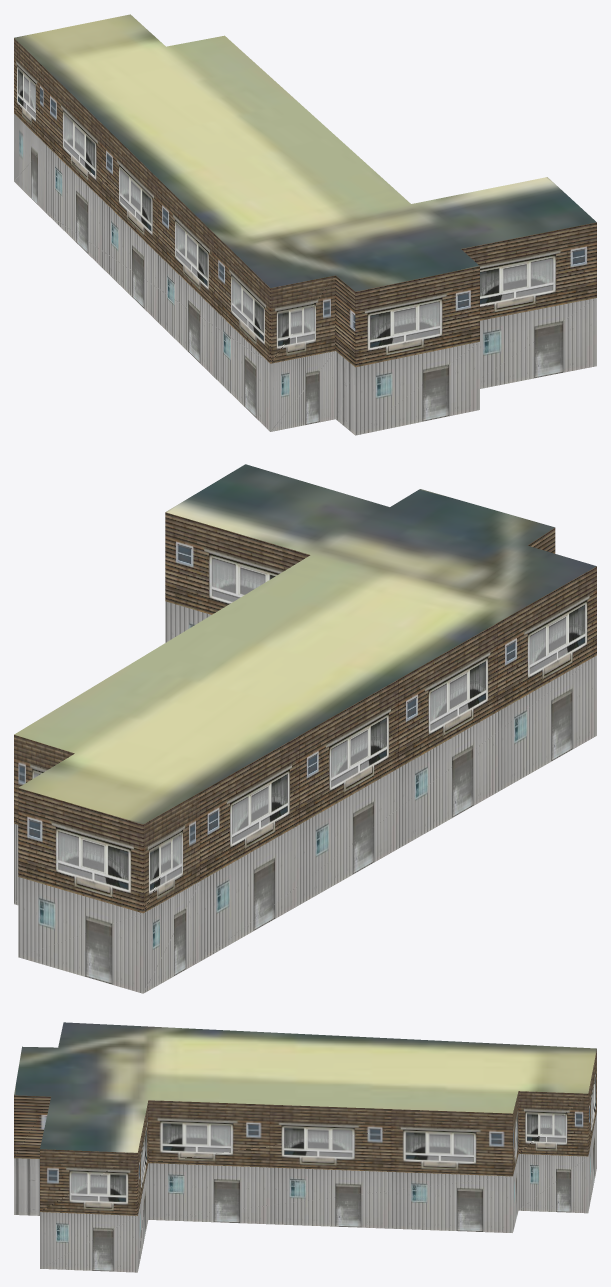
The picture shows the model from 3 angles, top to bottom: view 1: azimuth 30°, elevation 25°; view 2: azimuth 150°, elevation 25°; view 3: azimuth 270°, elevation 25°; orthographic projection. The views are drawn at different scales.
Visible parts, largest first — view 1: SketchUp (×3); view 2: SketchUp (×3); view 3: SketchUp (×3).
Boxes of the visible parts, <box> form: SketchUp (×3): <box>14,14,596,435</box>; SketchUp (×3): <box>14,464,596,993</box>; SketchUp (×3): <box>14,1022,596,1272</box>.
Bounding box in the file's own units: 642 × 1210 × 274.
3 materials, 3 textured.
